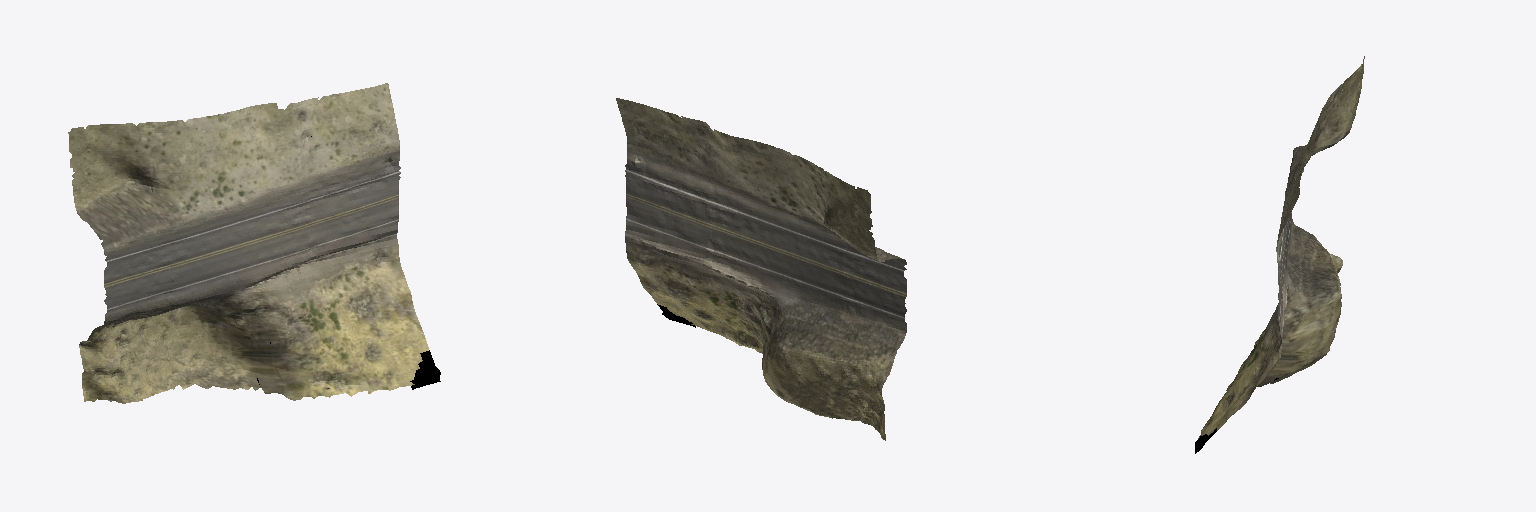
3 renders of one model, left to right at view 1: azimuth 30°, elevation 25°; view 2: azimuth 150°, elevation 25°; view 3: azimuth 270°, elevation 25°, orthographic.
Size of the model in its own units: 1.97 by 1.7 by 0.9972.
1 materials, 1 textured.